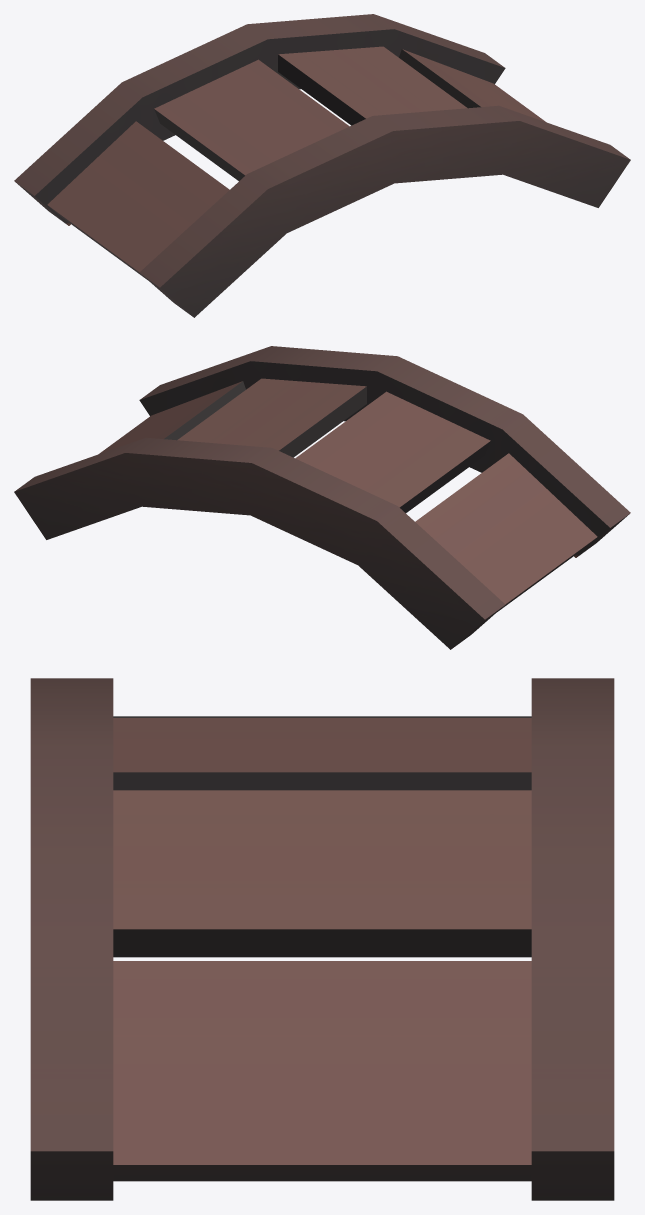
The model's file is Symmetry.fbx.
The picture shows the model from 3 angles, top to bottom: view 1: azimuth 30°, elevation 25°; view 2: azimuth 150°, elevation 25°; view 3: azimuth 270°, elevation 25°; orthographic projection. The views are drawn at different scales.
Parts seen in each view (by area): view 1: Symmetry; view 2: Symmetry; view 3: Symmetry.
Boxes of the visible parts, x1,y1,x2,y2 form: Symmetry: (14,14,630,317); Symmetry: (14,346,630,649); Symmetry: (30,678,614,1200).
Bounding box in the file's own units: 98.31 × 27.61 × 52.77.
